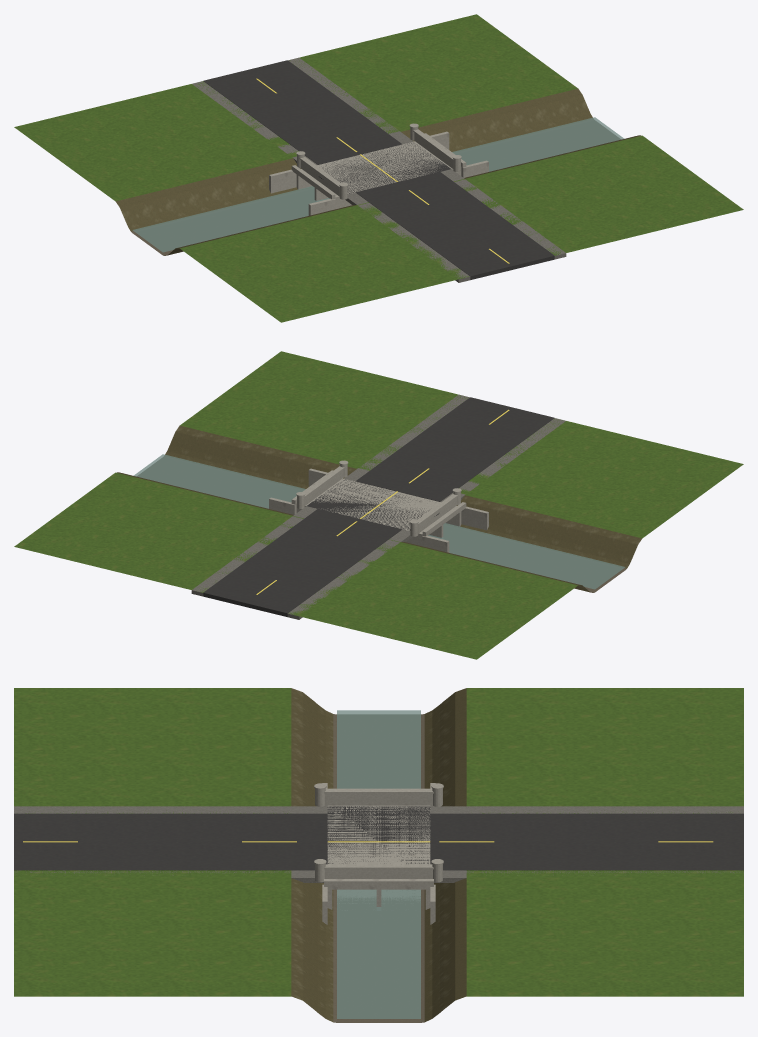
The model's file is P-CULVERT.glb.
The picture shows the model from 3 angles, top to bottom: view 1: azimuth 30°, elevation 25°; view 2: azimuth 150°, elevation 25°; view 3: azimuth 270°, elevation 25°; orthographic projection. The views are drawn at different scales.
Visible parts, largest first — view 1: terrain-col, road_S-col, road_N-col, water, culvert-col, deck-col, railings-col; view 2: terrain-col, road_N-col, road_S-col, water, culvert-col, deck-col, railings-col; view 3: terrain-col, road_N-col, road_S-col, water, culvert-col, railings-col, deck-col, road_marks.
Boxes of the visible parts, x1,y1,x2,y2 form: terrain-col: [14, 14, 743, 322]; road_S-col: [345, 169, 566, 282]; road_N-col: [192, 57, 413, 165]; water: [132, 117, 624, 252]; culvert-col: [269, 131, 488, 215]; deck-col: [322, 142, 450, 193]; railings-col: [296, 123, 461, 199]; terrain-col: [14, 351, 743, 659]; road_N-col: [191, 506, 412, 619]; road_S-col: [344, 394, 565, 502]; water: [133, 454, 625, 589]; culvert-col: [269, 468, 488, 552]; deck-col: [307, 479, 429, 531]; railings-col: [296, 460, 461, 536]; terrain-col: [14, 688, 743, 1022]; road_N-col: [430, 806, 743, 882]; road_S-col: [14, 806, 327, 882]; water: [337, 710, 420, 1018]; culvert-col: [322, 783, 435, 924]; railings-col: [314, 783, 443, 882]; deck-col: [327, 806, 430, 863]; road_marks: [23, 841, 713, 842].
Size of the model in its own units: 40 by 3.02 by 40.
9 materials, 6 textured.
